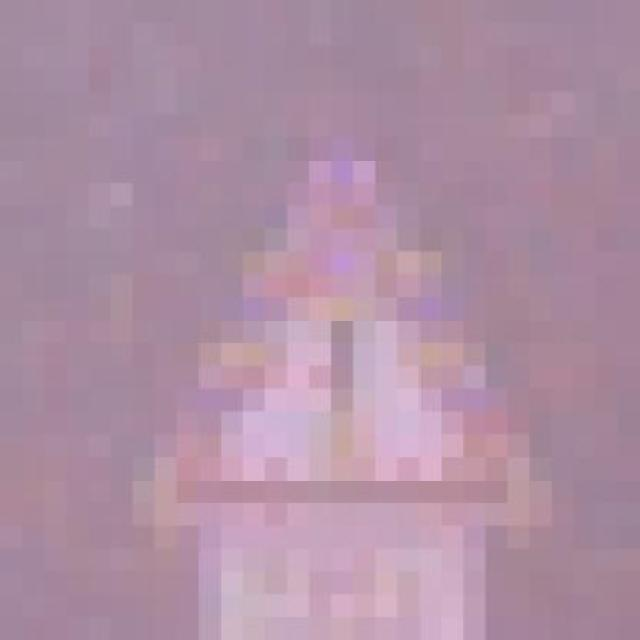Attention Please-: (132, 137, 530, 526)
